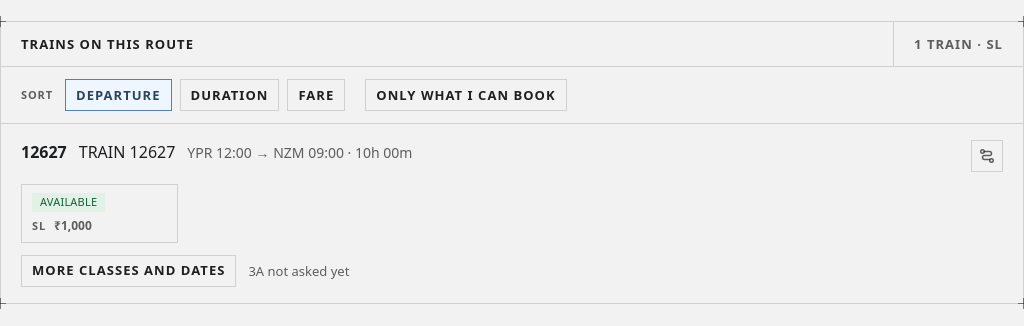
Test: opening a row › asks once, however many times the button is pressed
This screenshot has width=1024, height=326.
Click the button "More classes and dates" at (129, 270), box left=21, top=254, right=236, bottom=286
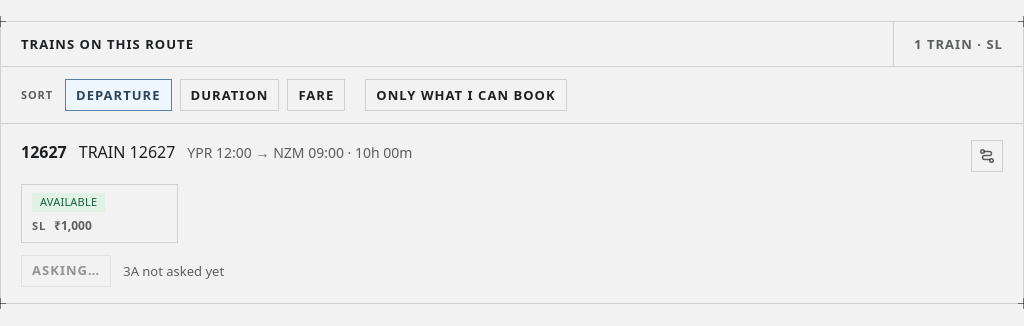
Click the button named "More classes and dates" at (66, 270), box left=21, top=254, right=111, bottom=286
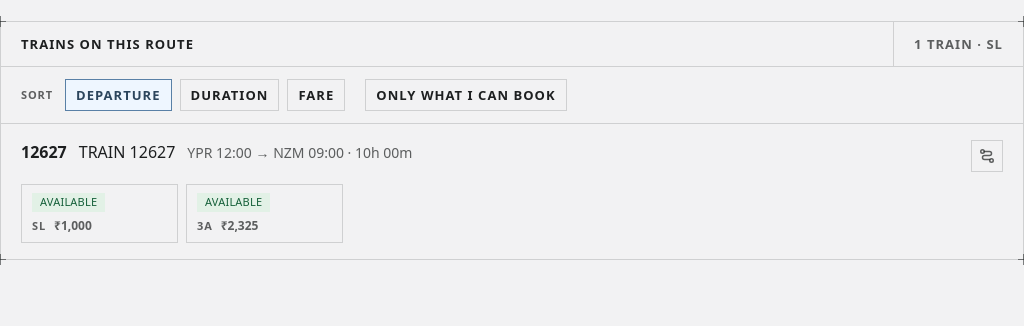
Check: the number of elements with test id "class-block" is 2, box left=21, top=184, right=178, bottom=242; left=186, top=184, right=343, bottom=242
